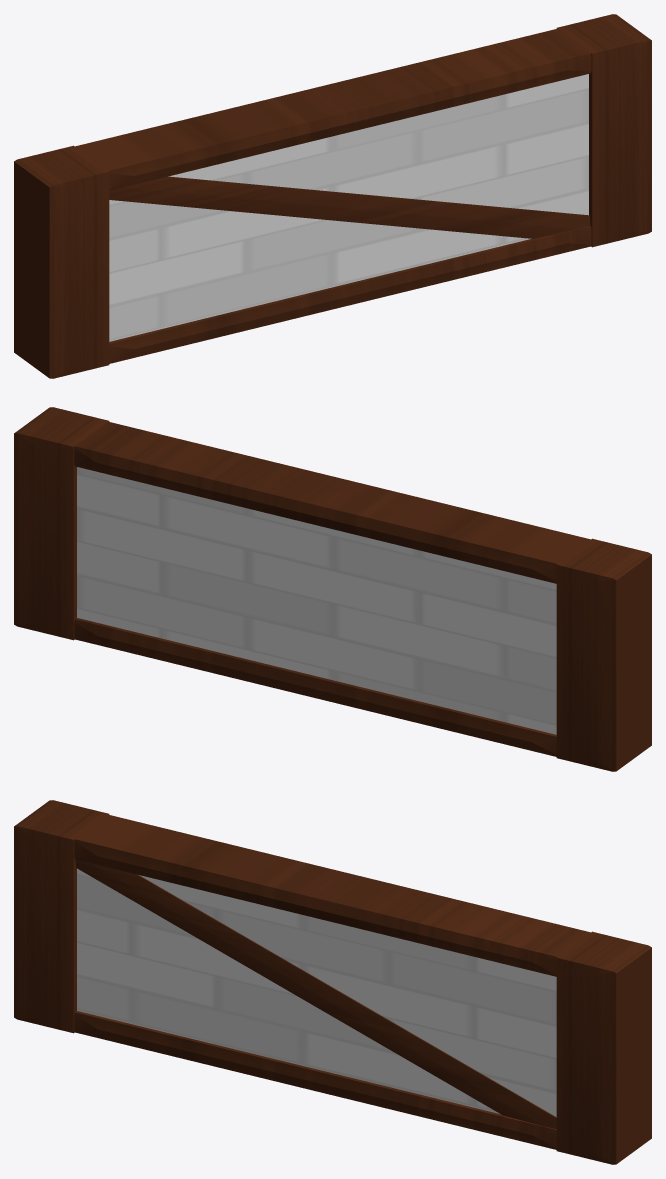
Rendered from Half_Half_Wall_L_Slash_Brick.fbx.
The picture shows the model from 3 angles, top to bottom: view 1: azimuth 30°, elevation 25°; view 2: azimuth 150°, elevation 25°; view 3: azimuth 330°, elevation 25°; orthographic projection.
Visible parts, largest first — view 1: Half_Half_Wall_L_Slash; view 2: Half_Half_Wall_L_Slash; view 3: Half_Half_Wall_L_Slash.
Boxes of the visible parts, x1,y1,x2,y2 form: Half_Half_Wall_L_Slash: (14,14,651,378); Half_Half_Wall_L_Slash: (14,407,651,771); Half_Half_Wall_L_Slash: (14,800,651,1164).
Size of the model in its own units: 212 by 64.99 by 23.4.
